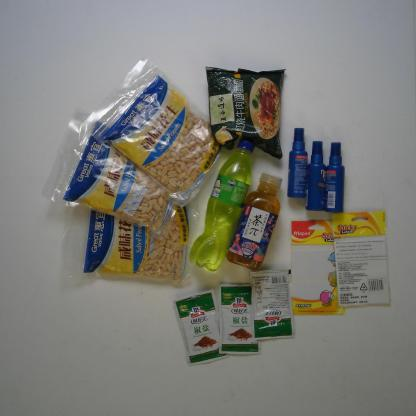Dried Fruit: (80, 52, 225, 208), (40, 97, 179, 231), (57, 198, 194, 289)
Drink: (190, 135, 257, 271), (227, 167, 287, 271)
Instant Noodles: (198, 62, 292, 161)
Personal Hygiene: (301, 138, 331, 214), (284, 123, 310, 199), (324, 140, 348, 215)
Seasoner: (170, 284, 224, 370), (242, 269, 298, 345), (212, 279, 262, 357)
Stationery: (282, 216, 348, 320), (330, 208, 393, 309)
